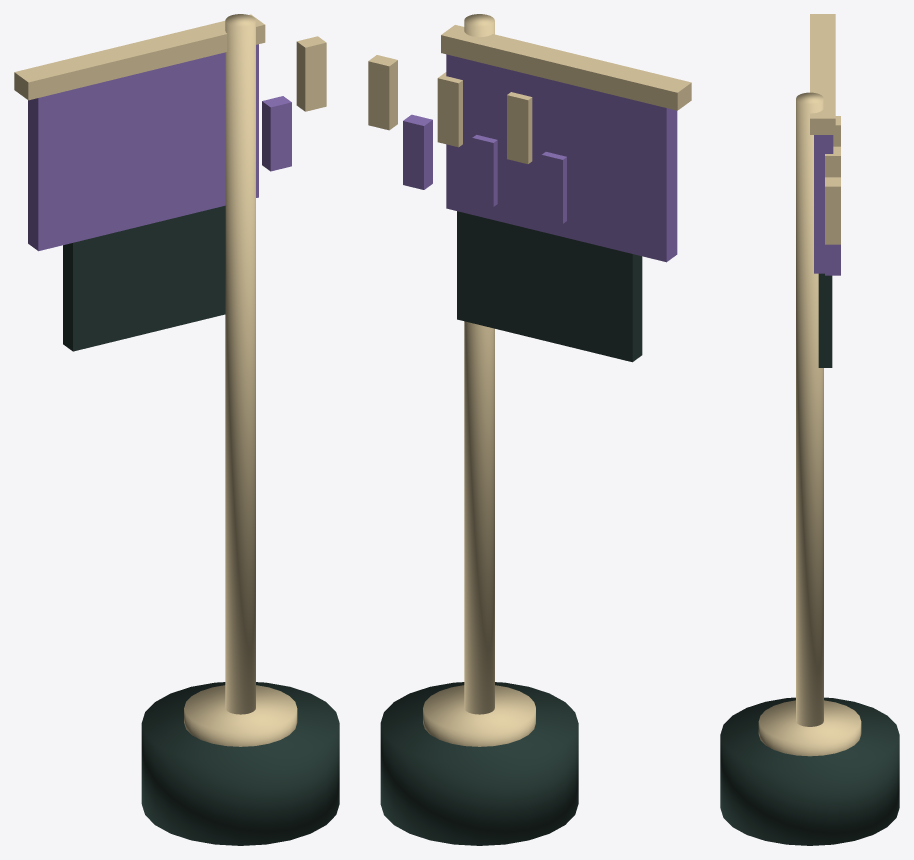
File: fanflag.moon-foxes-old.glb
The picture shows the model from 3 angles, left to right: view 1: azimuth 30°, elevation 25°; view 2: azimuth 150°, elevation 25°; view 3: azimuth 270°, elevation 25°; orthographic projection. The views are drawn at different scales.
Visible parts, largest first — view 1: weighted flag foot; view 2: weighted flag foot; view 3: weighted flag foot.
Boxes of the visible parts, bbox=[...] form: weighted flag foot: bbox=[14, 14, 339, 845]; weighted flag foot: bbox=[368, 14, 691, 845]; weighted flag foot: bbox=[720, 14, 899, 845].
Size of the model in its own units: 0.751 by 1.84 by 0.42.
